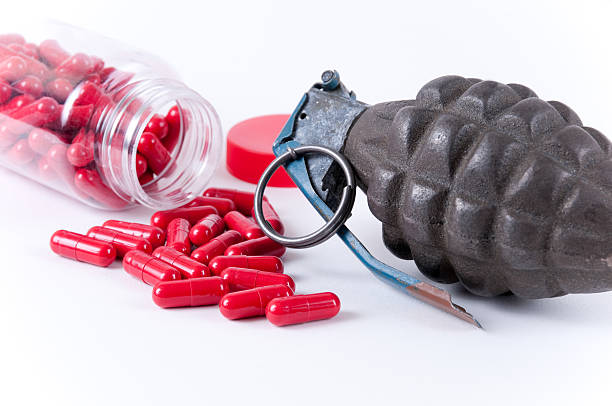e1: (258, 70, 612, 318)
